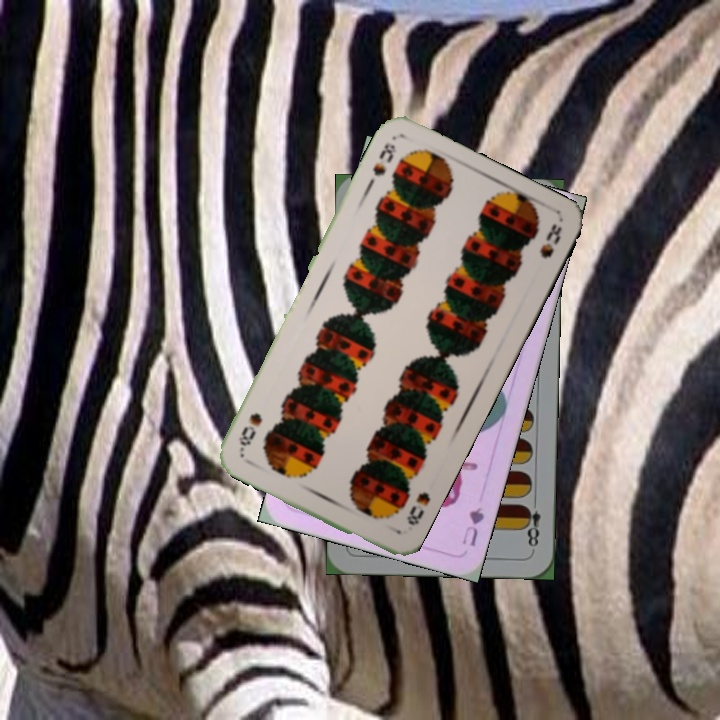E8: (520, 494, 543, 553)
GU: (458, 503, 487, 549)
S8: (402, 487, 433, 528), (369, 138, 399, 179)
